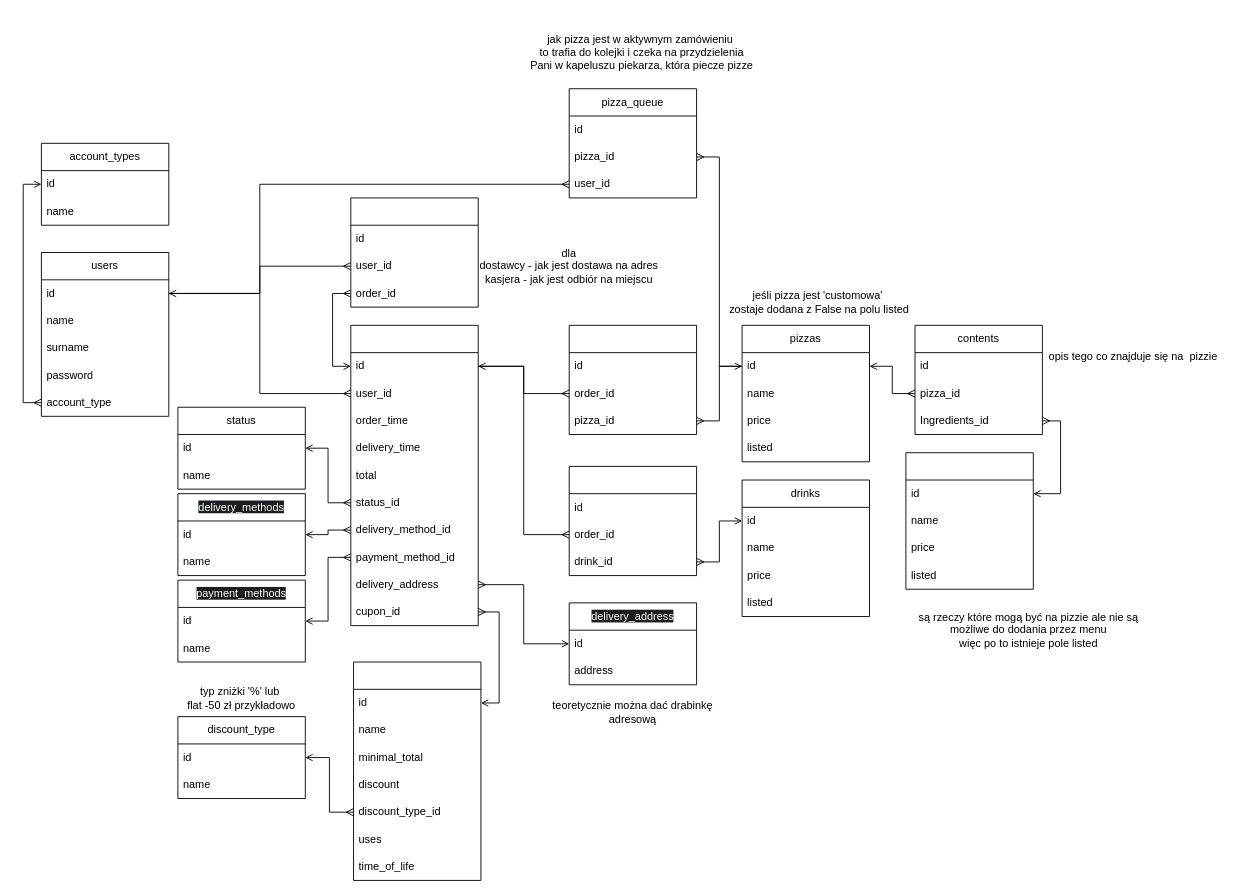
This 1240x896 diagram has some shape labels left out. Here are the shapes that lost their labels. From the top down, the box of each, then its label:
(350, 197, 478, 307): delivery_task
(568, 324, 697, 435): ordered_pizzas
(350, 324, 478, 626): orders
(568, 465, 697, 576): ordered_drink
(905, 452, 1033, 589): Ingredients
(353, 661, 481, 880): cupons
